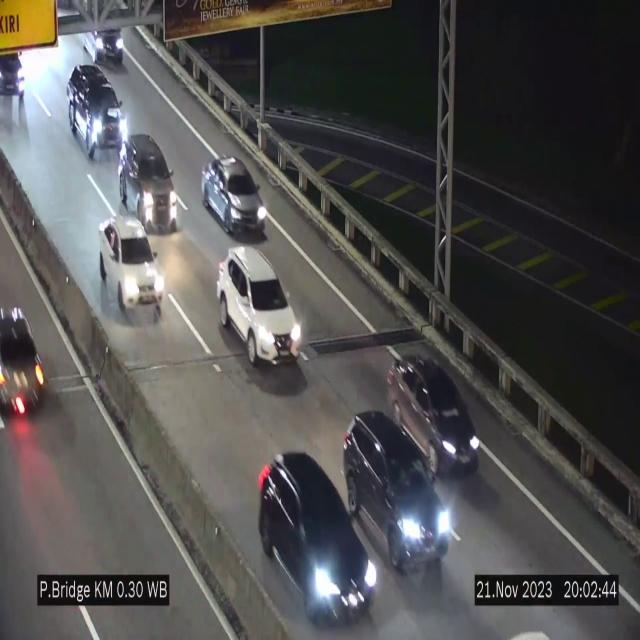Car: (252, 441, 382, 620), (343, 411, 456, 575), (391, 358, 481, 478), (216, 245, 304, 363), (94, 206, 162, 318), (0, 292, 51, 426), (117, 131, 180, 238), (68, 67, 134, 157), (201, 158, 267, 236), (78, 0, 132, 68), (0, 32, 38, 103)
